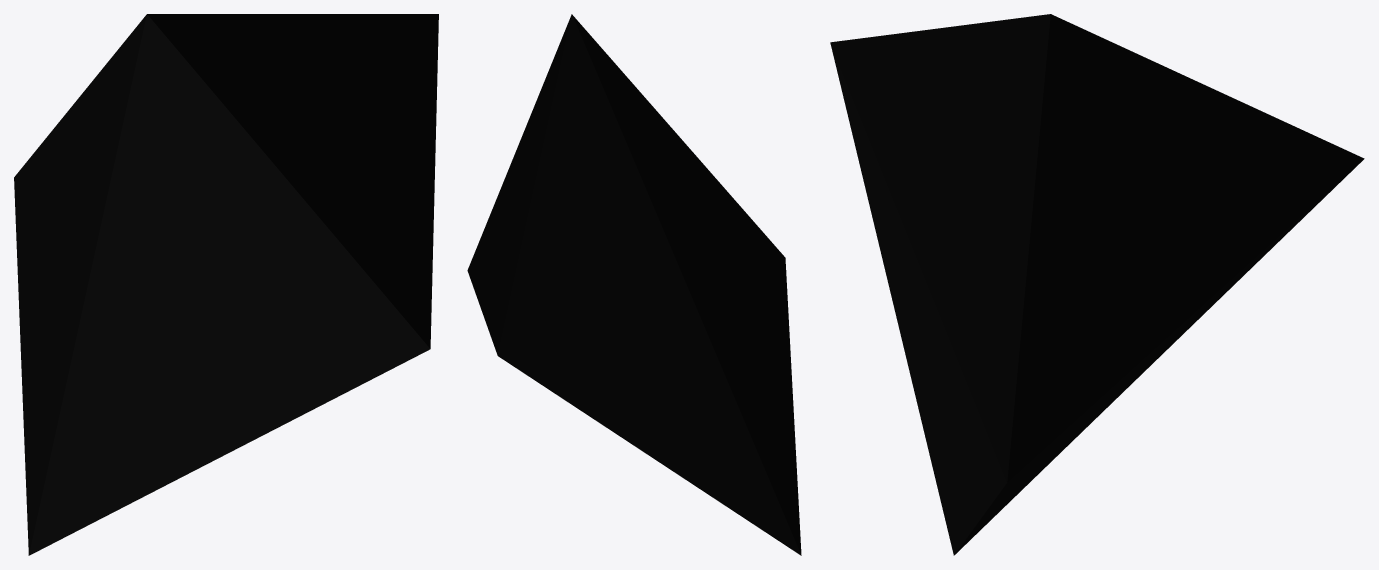
3 renders of one model, left to right at view 1: azimuth 30°, elevation 25°; view 2: azimuth 150°, elevation 25°; view 3: azimuth 270°, elevation 25°, orthographic. The views are drawn at different scales.
Size of the model in its own units: 0.1357 by 0.1732 by 0.1282.
1 material, 1 textured.
